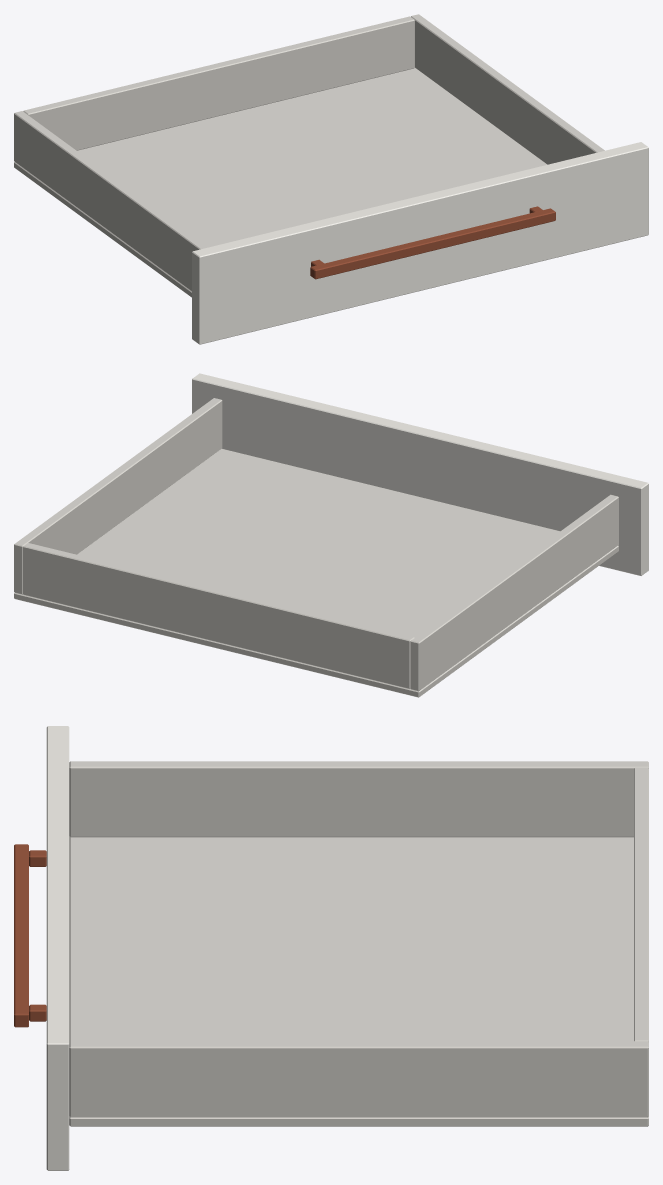
Rendered from kitchen_run_appliances_compact_oven_storage_drawer.glb.
3 views of the same model, one above another, from view 1: azimuth 30°, elevation 25°; view 2: azimuth 150°, elevation 25°; view 3: azimuth 270°, elevation 25° (orthographic). The views are drawn at different scales.
Parts seen in each view (by area): view 1: kitchen_run_appliances_compact_oven_storage_drawer; view 2: kitchen_run_appliances_compact_oven_storage_drawer; view 3: kitchen_run_appliances_compact_oven_storage_drawer.
Boxes of the visible parts, x1,y1,x2,y2 form: kitchen_run_appliances_compact_oven_storage_drawer: [14, 14, 648, 344]; kitchen_run_appliances_compact_oven_storage_drawer: [14, 373, 648, 697]; kitchen_run_appliances_compact_oven_storage_drawer: [14, 726, 648, 1170].
Size of the model in its own units: 0.597 by 0.112 by 0.504.
